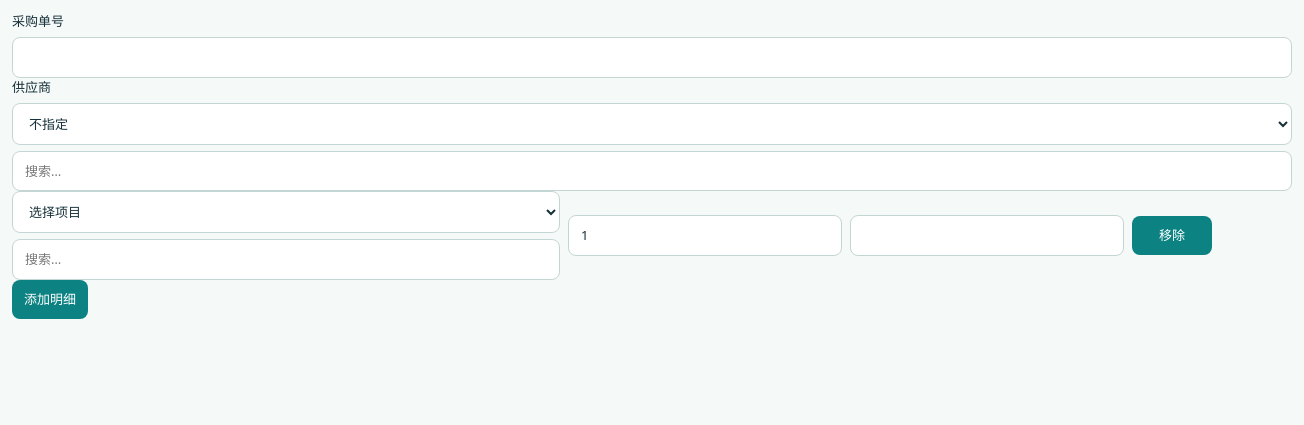
PurchaseOrderFormFields › updates fields and manages item rows
Type "PO-1" into the field labelled "采购单号" at (652, 57), box 12,37 -> 1292,78
Select "供应商甲" in the dropdown labelled "供应商" at (652, 124), box 12,102 -> 1292,144
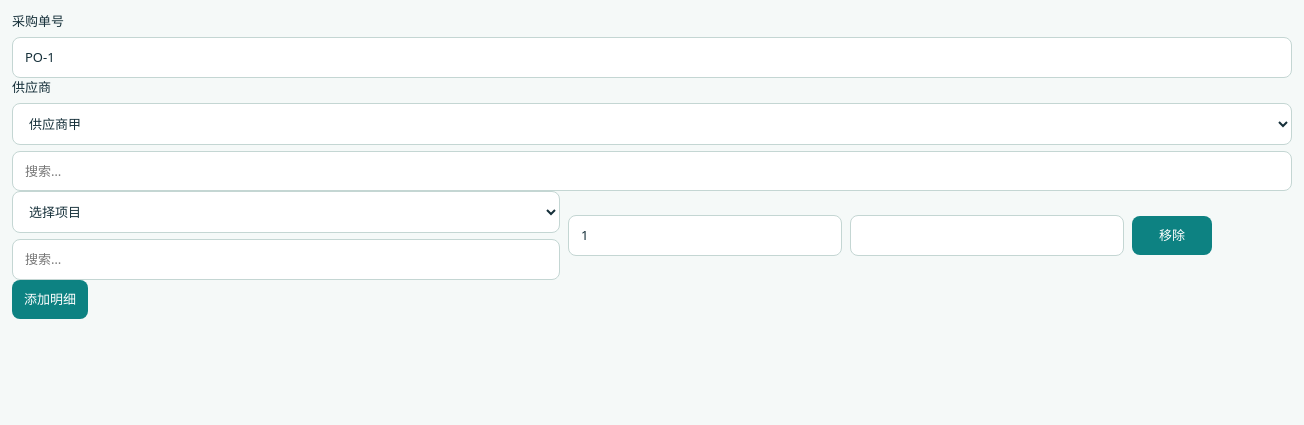
Select "耗材" in the dropdown named "采购项目" at (286, 212), box 12,191 -> 560,233
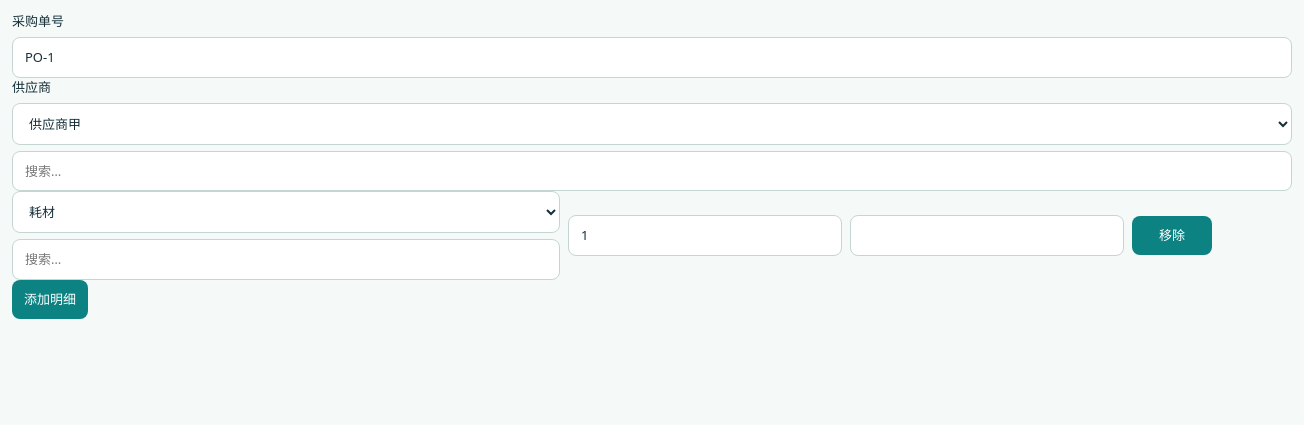
Replace the text in the number field named "采购数量" with "2" at (705, 236), box 568,215 -> 842,256
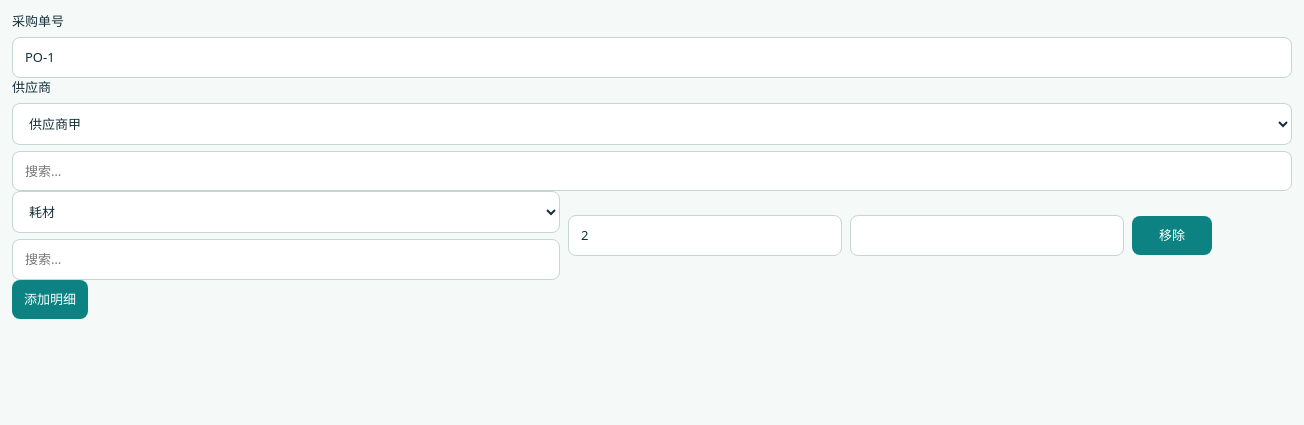
Type "100" into the number field named "采购单价" at (987, 236), box 850,215 -> 1124,256
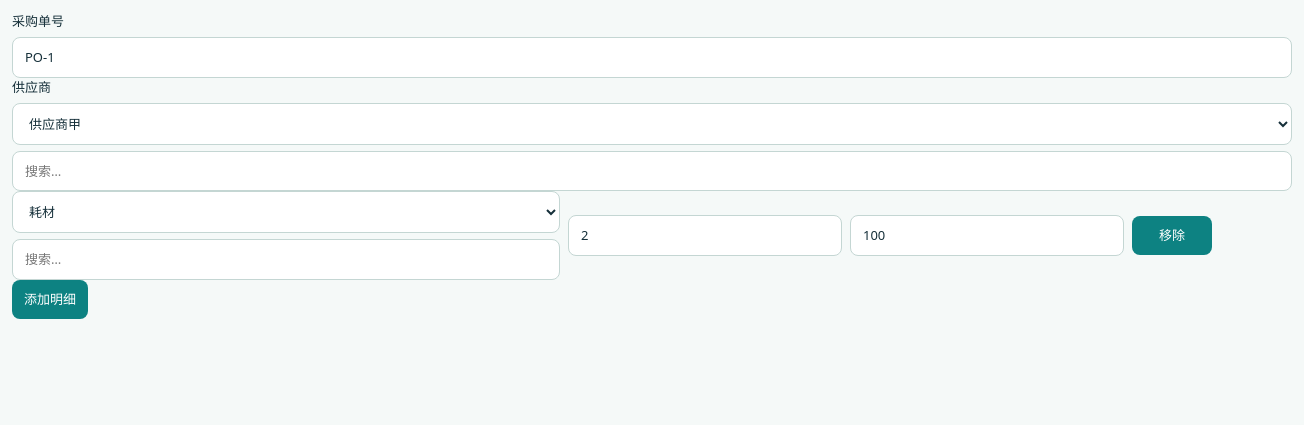
Click the button "添加明细" at (50, 300), box 12,280 -> 88,319
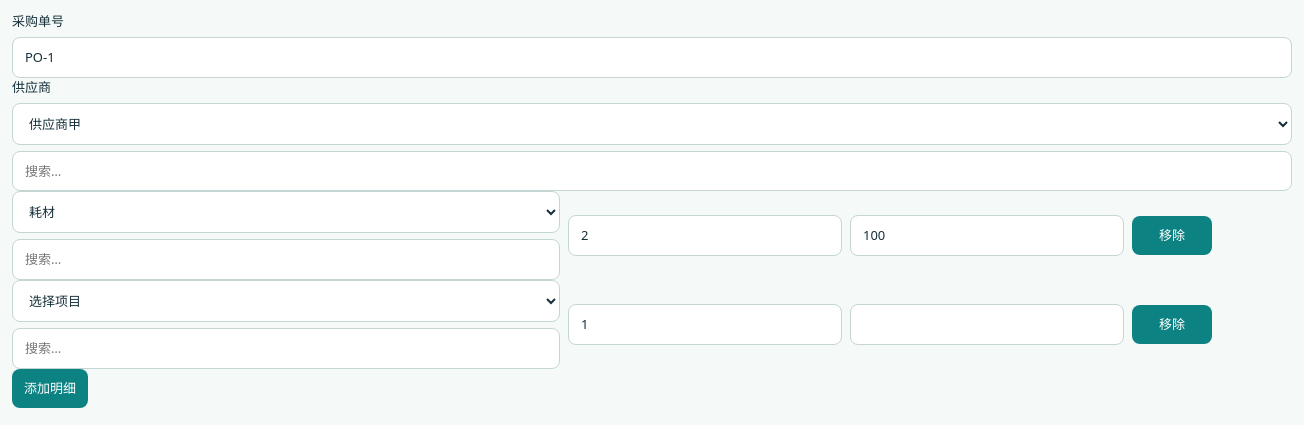
Now the number of dropdowns named "采购项目" is 2, box 12,191 -> 560,233; 12,280 -> 560,322
Click the 1st button "移除" at (1172, 236), box 1132,216 -> 1212,255
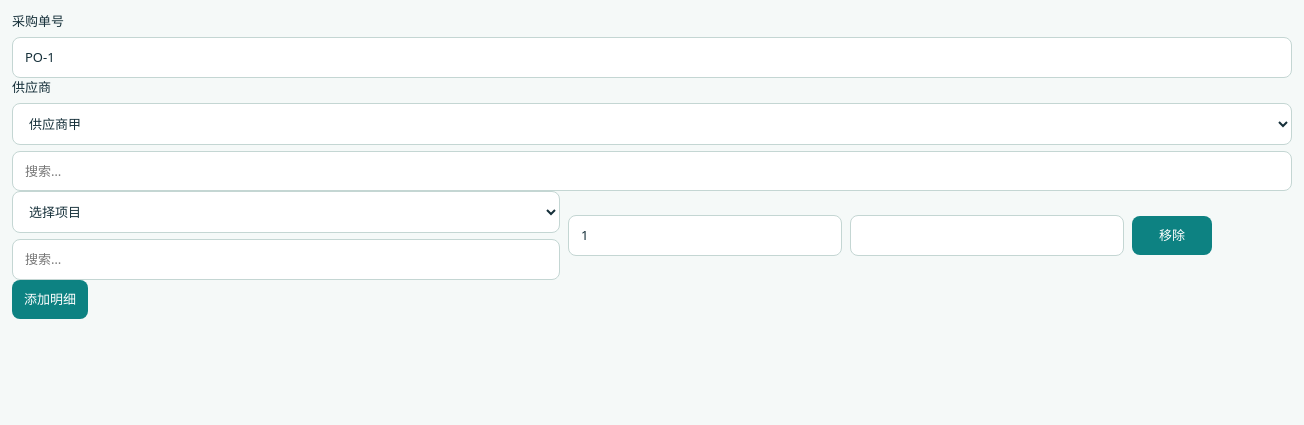
Now the number of dropdowns named "采购项目" is 1, box 12,191 -> 560,233
